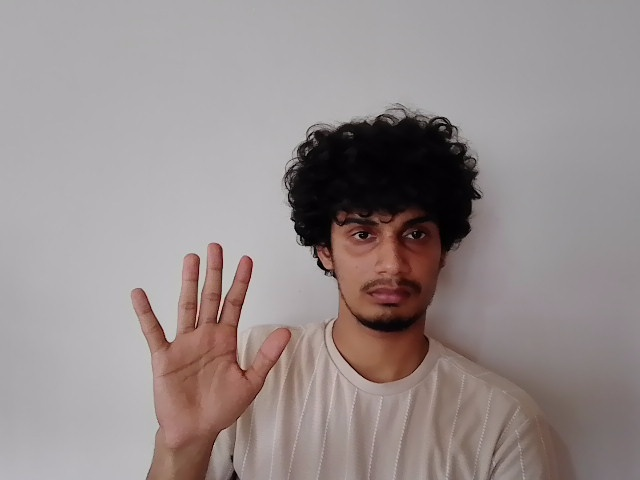goodbye: (130, 241, 292, 441)
